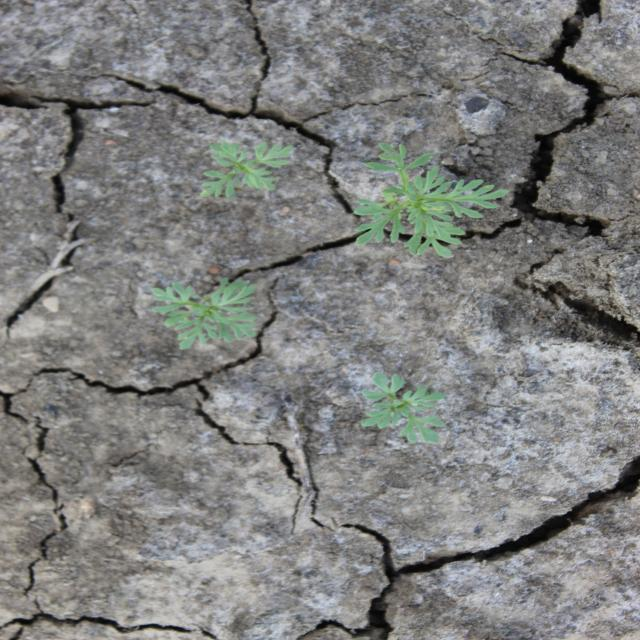Ragweed: (347, 140, 514, 260), (147, 276, 266, 351), (355, 370, 452, 446), (199, 138, 298, 200)
